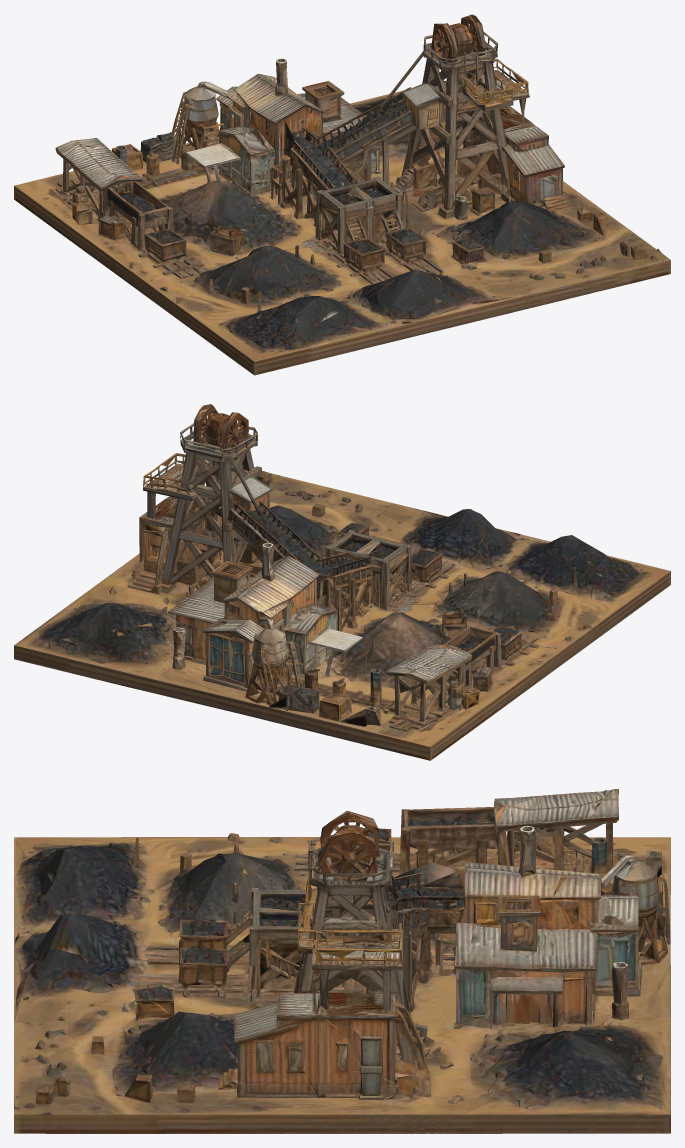
The model's file is ore_mine.glb.
3 renders of one model, top to bottom at view 1: azimuth 30°, elevation 25°; view 2: azimuth 150°, elevation 25°; view 3: azimuth 270°, elevation 25°, orthographic. The views are drawn at different scales.
Visible parts, largest first — view 1: normalize; view 2: normalize; view 3: normalize.
Part boxes in pixels (x1=…): normalize: x1=14, y1=14, x2=670, y2=375; normalize: x1=14, y1=404, x2=670, y2=760; normalize: x1=14, y1=789, x2=670, y2=1133.
Size of the model in its own units: 1 by 0.4256 by 0.9999.
Materials: 1 (1 with a texture image).
